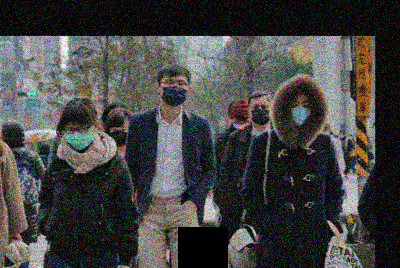with_mask: (159, 77, 188, 107), (64, 122, 93, 151), (289, 98, 313, 127), (250, 100, 271, 126), (108, 124, 129, 148), (231, 117, 252, 130), (340, 133, 345, 138)
